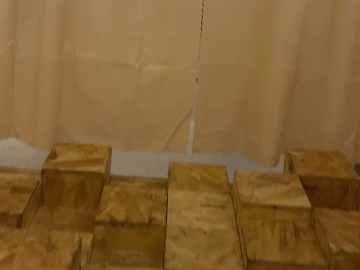curtain: (0, 0, 360, 163)
